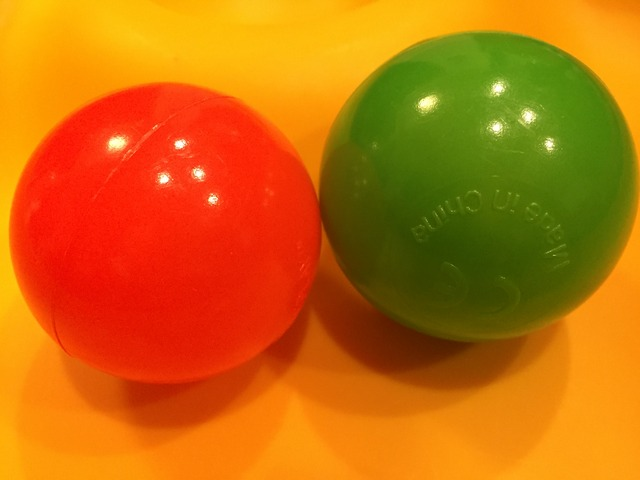Ball: (7, 83, 318, 376)
